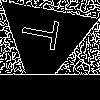T: (20, 14, 68, 53)
